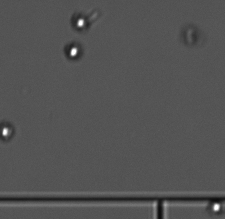Dead Cell: (183, 26, 203, 45)
Living Cell: (71, 14, 89, 31), (65, 43, 82, 60), (1, 123, 14, 141), (208, 200, 222, 214)
